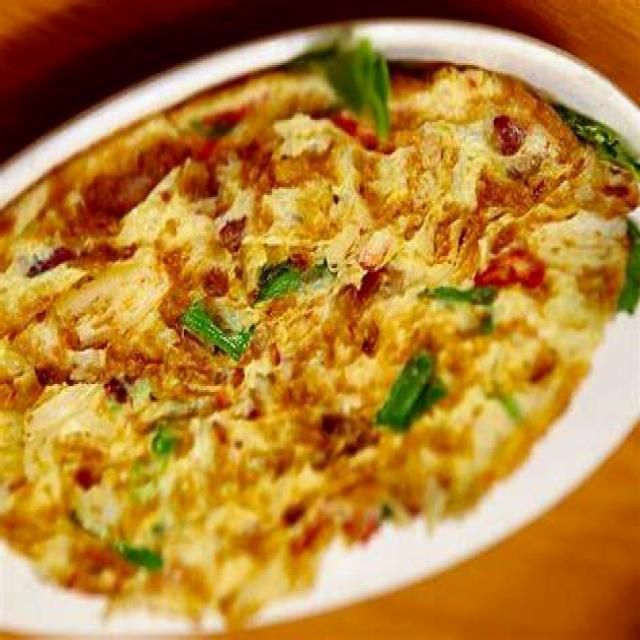telur dadar: (0, 24, 640, 626)
